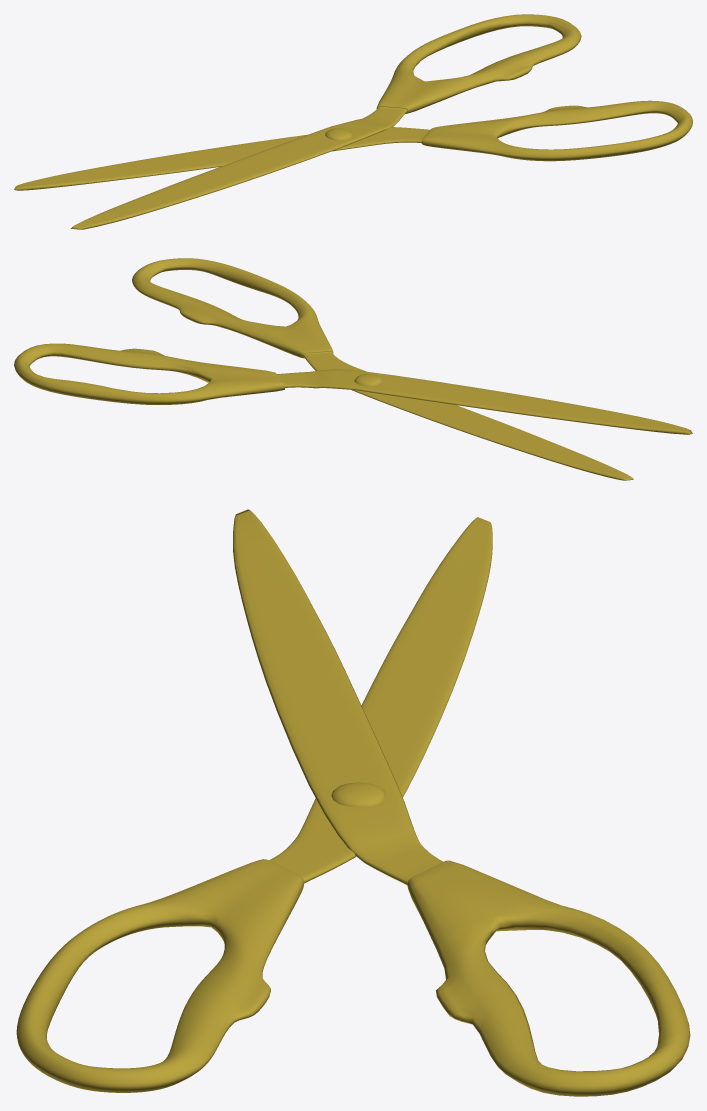
The model's file is Team3_Sanchez_Scissors.fbx.
3 renders of one model, top to bottom at view 1: azimuth 30°, elevation 25°; view 2: azimuth 150°, elevation 25°; view 3: azimuth 270°, elevation 25°, orthographic. The views are drawn at different scales.
Parts seen in each view (by area): view 1: pCube4; view 2: pCube4; view 3: pCube4.
Boxes of the visible parts, <box> form: pCube4: <box>14,14,692,229</box>; pCube4: <box>14,258,692,480</box>; pCube4: <box>16,509,690,1096</box>.
Bounding box in the file's own units: 19.66 × 0.4806 × 9.75.
